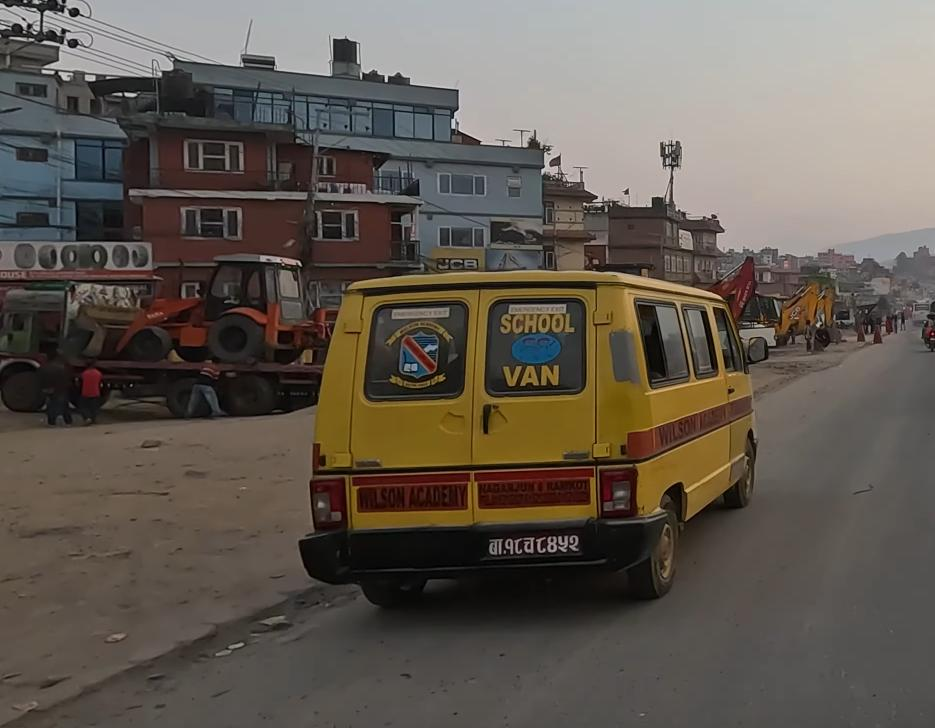school_bus: (306, 258, 772, 612)
